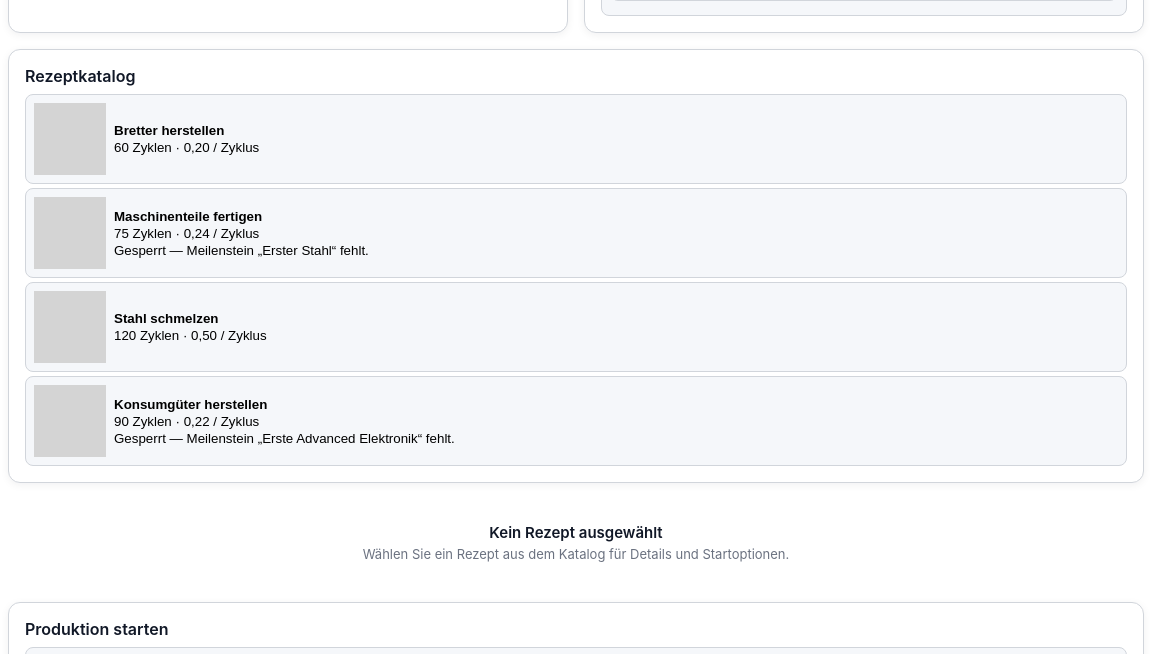
Test case: ProductionScreen › shows empty Weiterverwendung copy when no downstream recipes consume outputs
This screenshot has width=1152, height=654.
(page scrolled)
Click the button "Stahl schmelzen 120 Zyklen · 0,50 / Zyklus".
click(70, 327)  # box left=25, top=282, right=1127, bottom=372
(page scrolled)
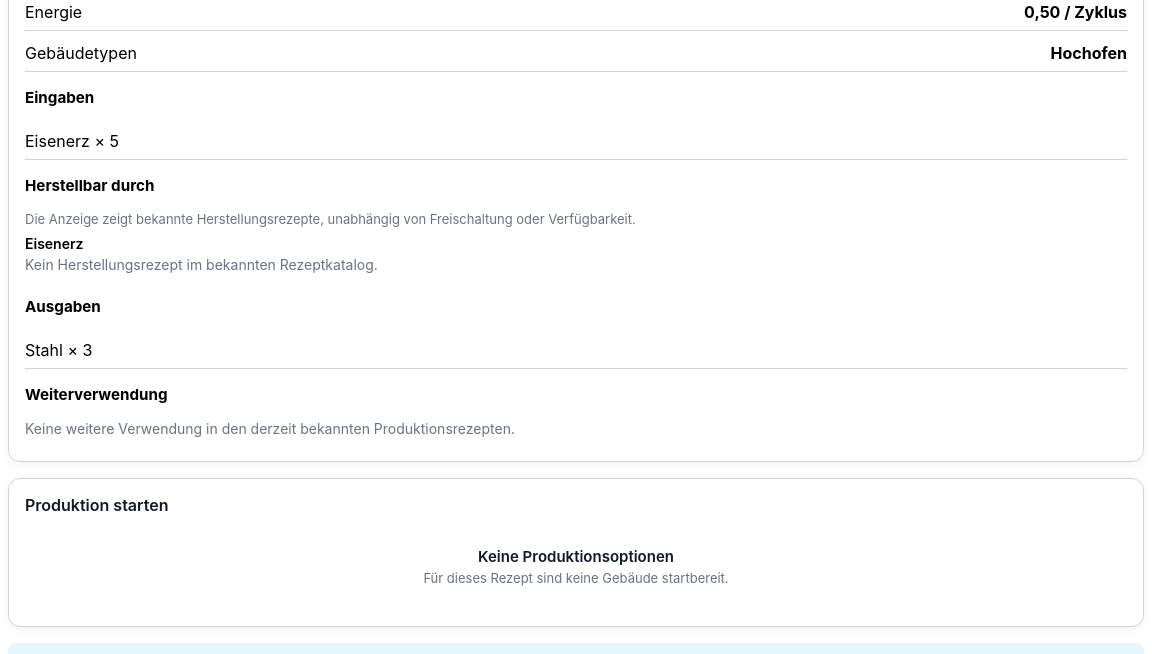
Expected: the text "Keine weitere Verwendung in den derzeit bekannten Produktionsrezepten." is shown, left=25, top=420, right=515, bottom=437
